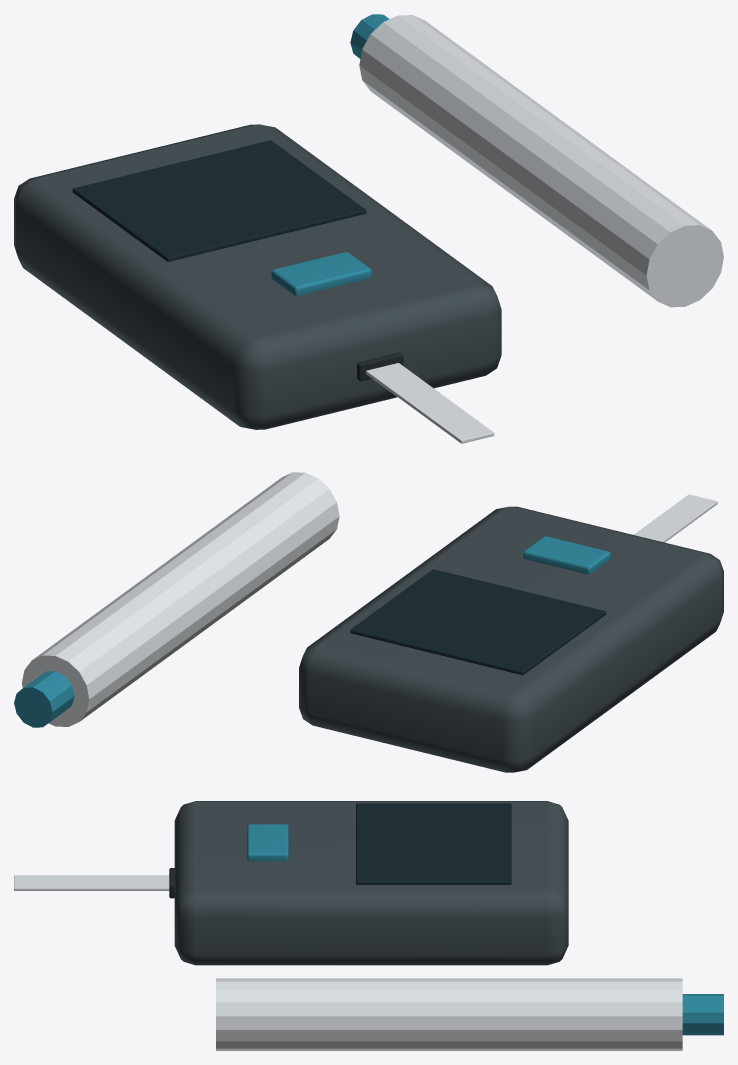
File: glucose_meter.fbx
The picture shows the model from 3 angles, top to bottom: view 1: azimuth 30°, elevation 25°; view 2: azimuth 150°, elevation 25°; view 3: azimuth 270°, elevation 25°; orthographic projection. The views are drawn at different scales.
Visible parts, largest first — view 1: EQ_glucose_meter_Body, EQ_glucose_meter_Lancet, EQ_glucose_meter_Screen, EQ_glucose_meter_Strip, EQ_glucose_meter_Button, EQ_glucose_meter_LancetButton; view 2: EQ_glucose_meter_Body, EQ_glucose_meter_Lancet, EQ_glucose_meter_Screen, EQ_glucose_meter_LancetButton, EQ_glucose_meter_Button, EQ_glucose_meter_Strip; view 3: EQ_glucose_meter_Body, EQ_glucose_meter_Lancet, EQ_glucose_meter_Screen, EQ_glucose_meter_Strip, EQ_glucose_meter_LancetButton, EQ_glucose_meter_Button.
Boxes of the visible parts, <box> form: EQ_glucose_meter_Body: <box>14,124,501,429</box>; EQ_glucose_meter_Lancet: <box>359,15,723,307</box>; EQ_glucose_meter_Screen: <box>72,140,366,261</box>; EQ_glucose_meter_Strip: <box>366,363,494,443</box>; EQ_glucose_meter_Button: <box>271,252,371,295</box>; EQ_glucose_meter_LancetButton: <box>350,14,389,58</box>; EQ_glucose_meter_Body: <box>299,506,723,772</box>; EQ_glucose_meter_Lancet: <box>22,472,339,726</box>; EQ_glucose_meter_Screen: <box>350,569,605,675</box>; EQ_glucose_meter_LancetButton: <box>14,671,74,727</box>; EQ_glucose_meter_Button: <box>523,536,610,574</box>; EQ_glucose_meter_Strip: <box>634,494,717,542</box>; EQ_glucose_meter_Body: <box>174,801,568,965</box>; EQ_glucose_meter_Lancet: <box>216,978,682,1050</box>; EQ_glucose_meter_Screen: <box>356,803,511,884</box>; EQ_glucose_meter_Strip: <box>14,875,169,890</box>; EQ_glucose_meter_LancetButton: <box>682,994,723,1035</box>; EQ_glucose_meter_Button: <box>247,824,288,860</box>.
Size of the model in its own units: 0.091 by 0.0175 by 0.137.
